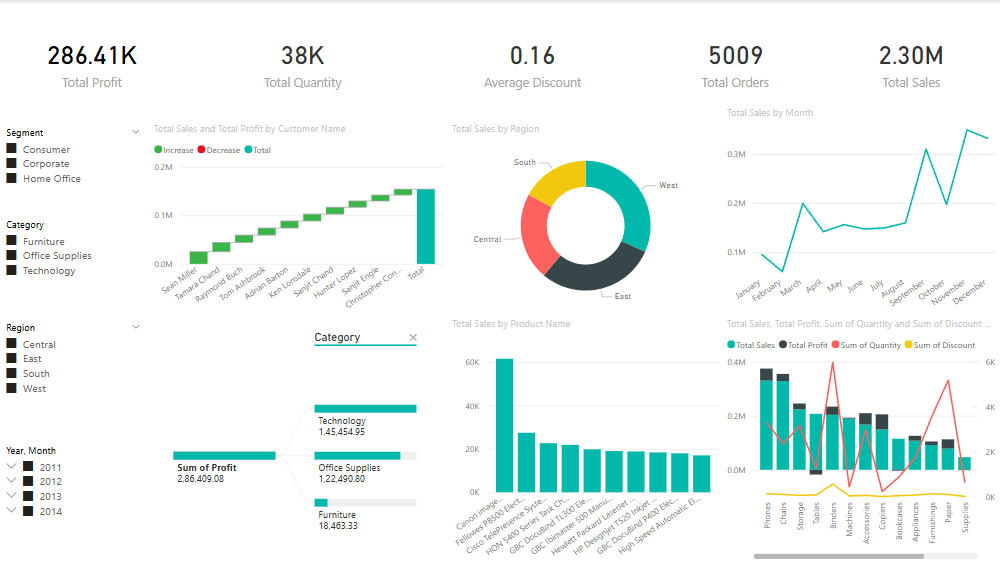

The dashboard page shown, as its layout file describes it:
{"tool":"powerbi","page":{"name":"Page 1","canvas":[1280,720],"ordinal":0},"visuals":[{"type":"card","fields":{"Values":["Project2d.Average Discount"]},"box":[537.4,0,292.4,156.2],"z":0},{"type":"card","fields":{"Values":["Project2d.Total Orders"]},"box":[829.9,0,225.1,156.2],"z":1},{"type":"card","fields":{"Values":["Project2d.Total Profit"]},"box":[0,0,245,156.2],"z":2},{"type":"card","fields":{"Values":["Project2d.Total Quantity"]},"box":[245,0,292.4,156.2],"z":3},{"type":"card","fields":{"Values":["Project2d.Total Sales"]},"box":[1054.9,0,225.1,156.2],"z":4},{"type":"lineChart","fields":{"Category":["Project2d.Order Date.Variation.Date Hierarchy.Month"],"Y":["Project2d.Total Sales"]},"box":[927.1,135.7,352.9,268.6],"z":5},{"type":"donutChart","fields":{"Category":["Project2d.Region"],"Y":["Project2d.Total Sales"]},"box":[575.7,155.7,351.4,248.6],"z":6},{"type":"lineStackedColumnComboChart","fields":{"Category":["Project2d.Sub-Category"],"Y":["Project2d.Total Sales","Project2d.Total Profit"],"Y2":["Project2d.Quantity","Project2d.Discount"]},"box":[927.1,404.3,352.9,314.3],"z":7},{"type":"columnChart","fields":{"Category":["Project2d.Product Name"],"Y":["Project2d.Total Sales"]},"box":[575.7,404.3,351.4,315.7],"z":8},{"type":"waterfallChart","fields":{"Category":["Project2d.Customer Name"],"Y":["Project2d.Total Sales"]},"box":[195.7,155.7,380,248.6],"z":9},{"type":"decompositionTreeVisual","fields":{"ExplainBy":["Project2d.Category","Project2d.Sales","Project2d.Quantity"],"Analyze":["Project2d.Profit"]},"box":[195.7,404.3,380,314.3],"z":10},{"type":"slicer","fields":{"Values":["Project2d.Segment"]},"box":[0,155.7,195.7,117.1],"z":11},{"type":"slicer","fields":{"Values":["Project2d.Category"]},"box":[0,272.9,195.7,131.4],"z":12},{"type":"slicer","fields":{"Values":["Project2d.Region"]},"box":[0,404.3,195.7,160],"z":13},{"type":"slicer","fields":{"Values":["Project2d.Order Date.Variation.Date Hierarchy.Year","Project2d.Order Date.Variation.Date Hierarchy.Month"]},"box":[0,561.4,195.7,157.1],"z":14}]}

Visuals, with their boxes in screenshot pixels (x1, y1, x2, y2), scaled from the page's 1280x720 canvas onto the 1000x562 screenshot:
card - Project2d.Average Discount: (420, 0, 648, 122)
card - Project2d.Total Orders: (648, 0, 824, 122)
card - Project2d.Total Profit: (0, 0, 191, 122)
card - Project2d.Total Quantity: (191, 0, 420, 122)
card - Project2d.Total Sales: (824, 0, 999, 122)
lineChart - Project2d.Order Date.Variation.Date Hierarchy.Month x Project2d.Total Sales: (724, 106, 999, 316)
donutChart - Project2d.Region x Project2d.Total Sales: (450, 122, 724, 316)
lineStackedColumnComboChart - Project2d.Sub-Category x Project2d.Total Sales: (724, 316, 999, 561)
columnChart - Project2d.Product Name x Project2d.Total Sales: (450, 316, 724, 561)
waterfallChart - Project2d.Customer Name x Project2d.Total Sales: (153, 122, 450, 316)
decompositionTreeVisual - Project2d.Category x Project2d.Sales: (153, 316, 450, 561)
slicer - Project2d.Segment: (0, 122, 153, 213)
slicer - Project2d.Category: (0, 213, 153, 316)
slicer - Project2d.Region: (0, 316, 153, 440)
slicer - Project2d.Order Date.Variation.Date Hierarchy.Year x Project2d.Order Date.Variation.Date Hierarchy.Month: (0, 438, 153, 561)
